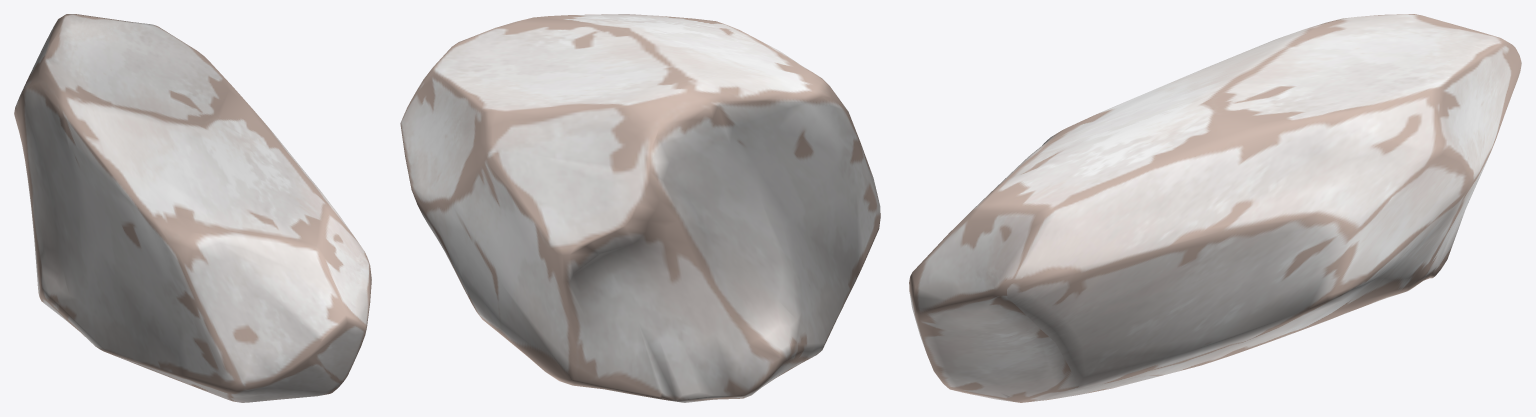
Rendered from Rock_4.FBX.
The picture shows the model from 3 angles, left to right: view 1: azimuth 30°, elevation 25°; view 2: azimuth 150°, elevation 25°; view 3: azimuth 270°, elevation 25°; orthographic projection. The views are drawn at different scales.
Parts seen in each view (by area): view 1: Rock_4; view 2: Rock_4; view 3: Rock_4.
Boxes of the visible parts, x1=… form: Rock_4: x1=14, y1=14, x2=371, y2=402; Rock_4: x1=400, y1=14, x2=880, y2=402; Rock_4: x1=909, y1=14, x2=1521, y2=402.
Size of the model in its own units: 109 by 117 by 200.
